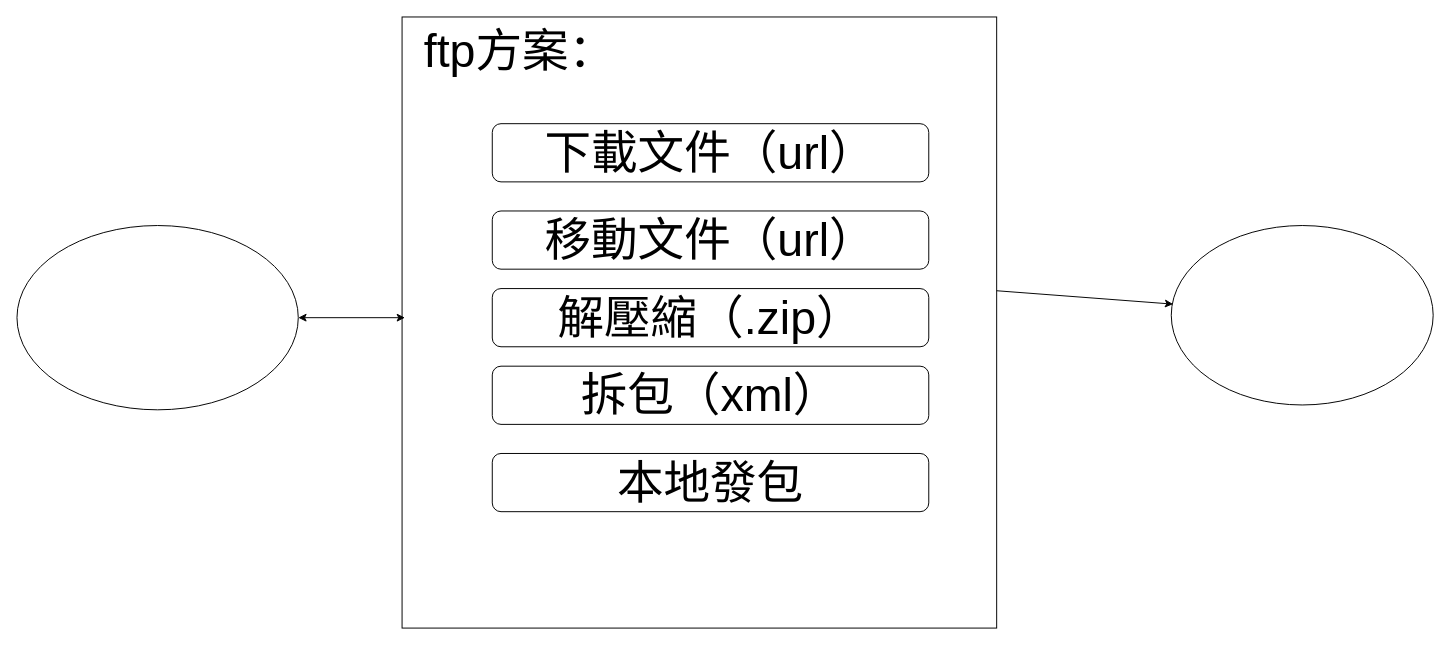
Some shapes in this 1450 by 645 pixel diagram are drawn without their labels. Here are the shapes that lost their labels. From the top down, the centre of each, then its label:
At (157,317): "廠商的服務器".
At (1301,315): "全家系統".
